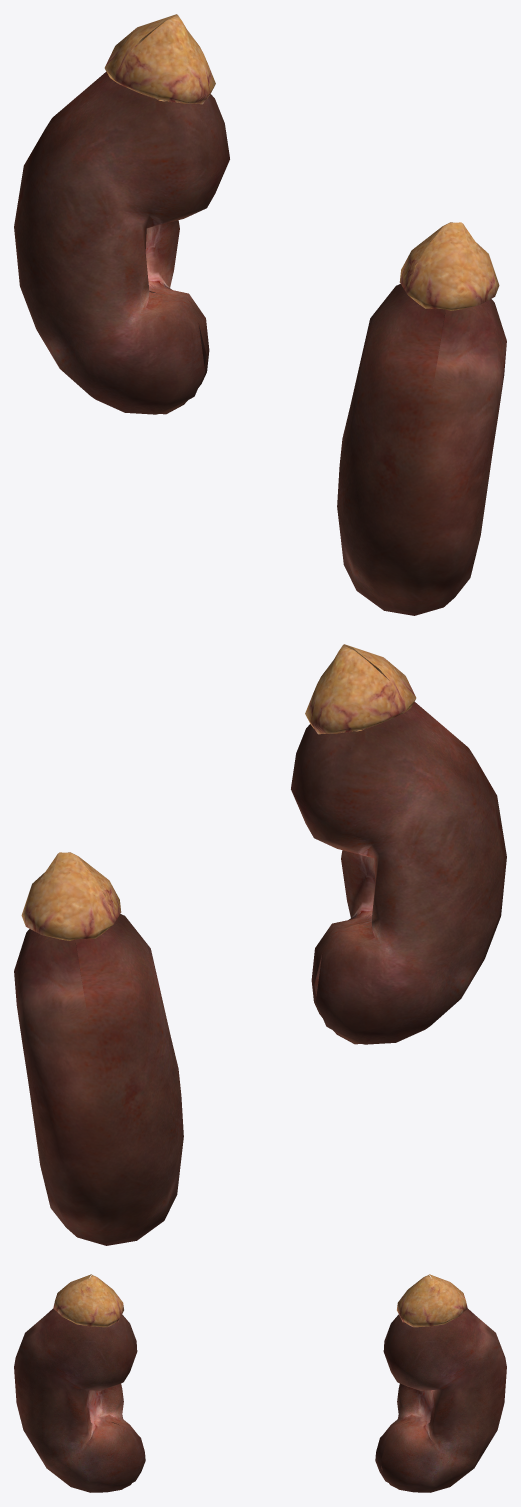
Rendered from asset8.glb.
3 renders of one model, top to bottom at view 1: azimuth 30°, elevation 25°; view 2: azimuth 150°, elevation 25°; view 3: azimuth 270°, elevation 25°, orthographic. The views are drawn at different scales.
Parts seen in each view (by area): view 1: Kidney_Left_pivot; view 2: Kidney_Left_pivot; view 3: Kidney_Left_pivot.
Boxes of the visible parts, x1,y1,x2,y2 form: Kidney_Left_pivot: (14,14,506,615); Kidney_Left_pivot: (14,644,506,1245); Kidney_Left_pivot: (14,1274,506,1492).
Size of the model in its own units: 0.0767 by 0.1658 by 0.3275.
4 materials, 4 textured.
